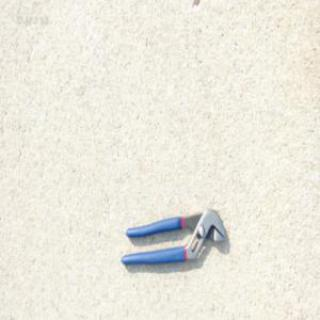Pliertrack_idkeyframe: (119, 206, 230, 265)
